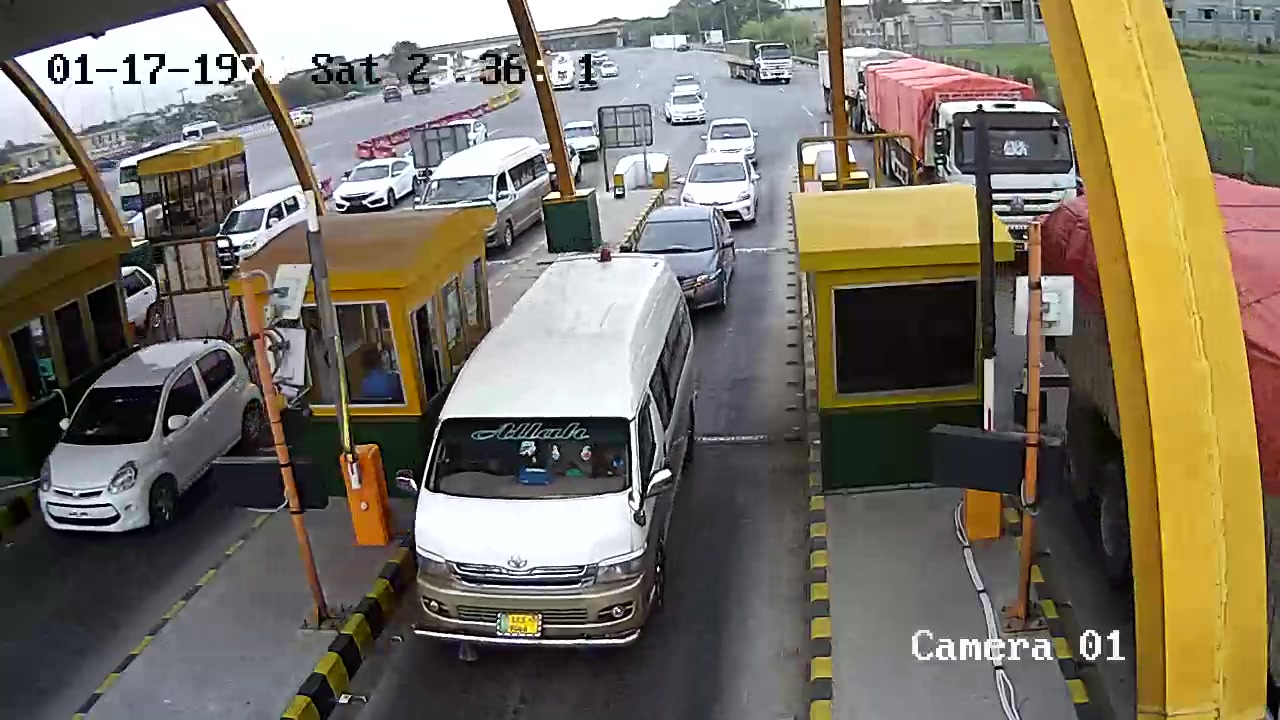F2: (401, 250, 704, 662)
